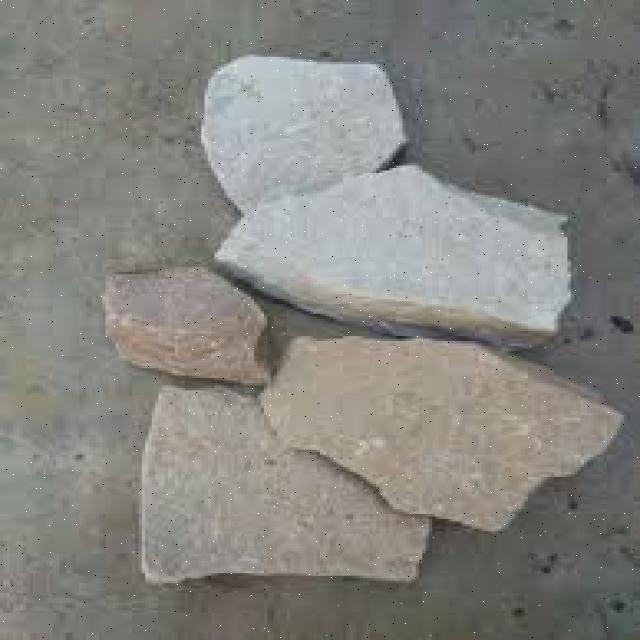Metamorphic: (89, 49, 617, 610)
